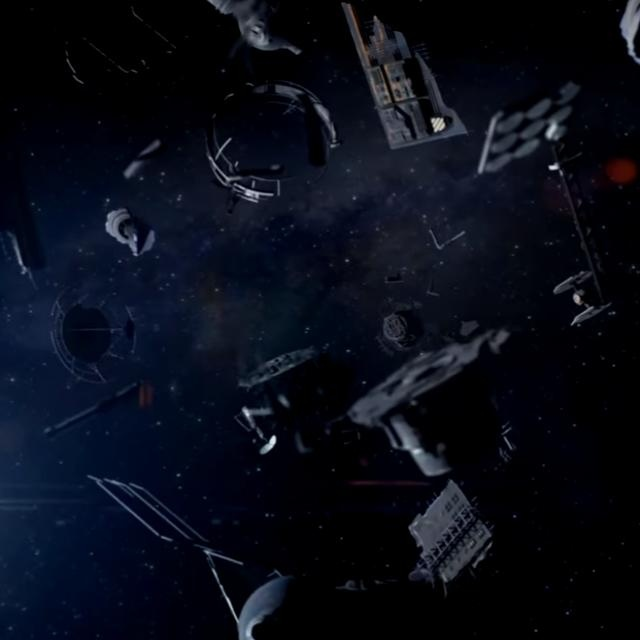large_debris: (76, 457, 345, 640), (221, 312, 521, 468), (476, 64, 632, 317), (329, 0, 478, 153), (195, 67, 356, 206), (16, 292, 169, 437), (53, 9, 199, 99), (400, 471, 496, 606), (0, 88, 50, 307), (375, 210, 480, 306), (200, 0, 328, 78), (108, 190, 173, 266), (107, 139, 180, 178)
